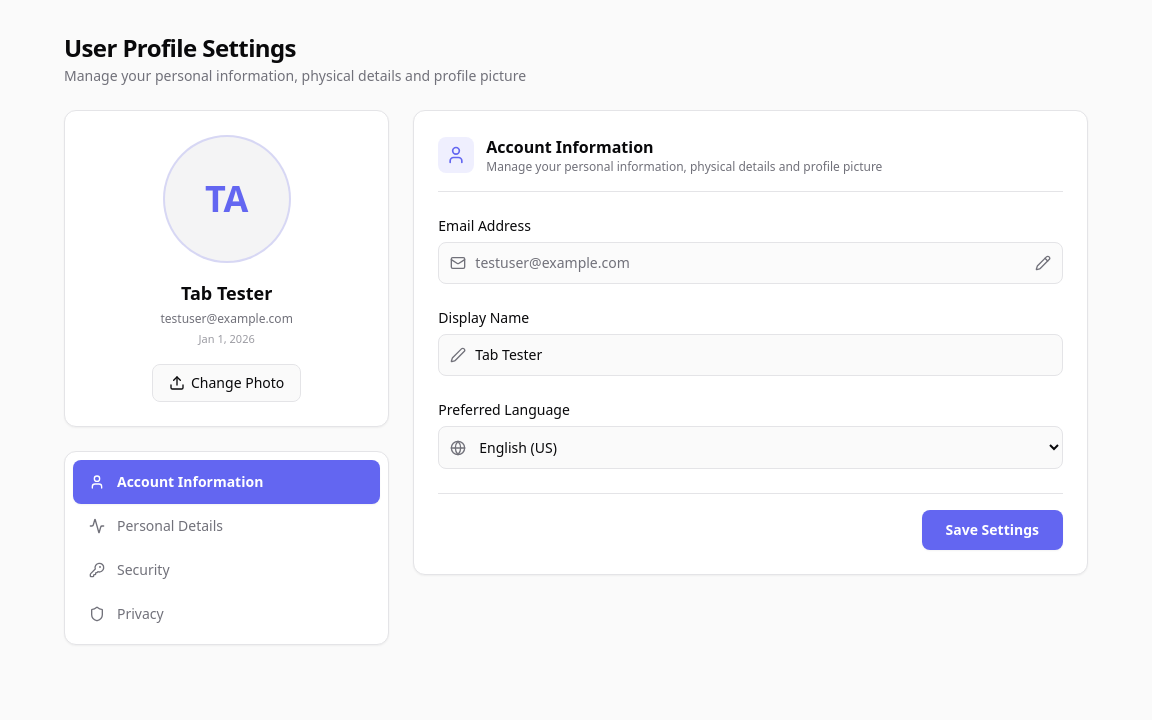
Test case: Profile Tabbed Navigation and Functionality › successfully updates password in Security tab
// Switch to Security tab
Click the tab "Security": click(143, 569) x1=73 y1=548 x2=380 y2=592
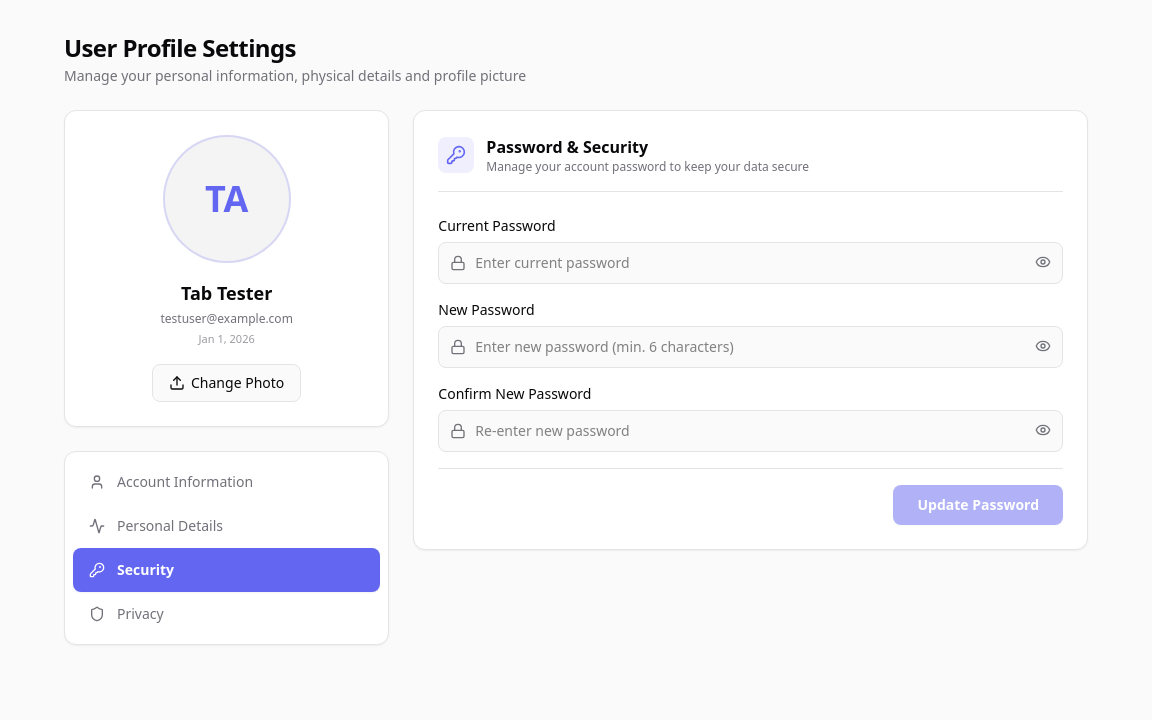
In the password field labelled "Current Password": (751, 263) x1=438 y1=242 x2=1063 y2=284, type "current123"
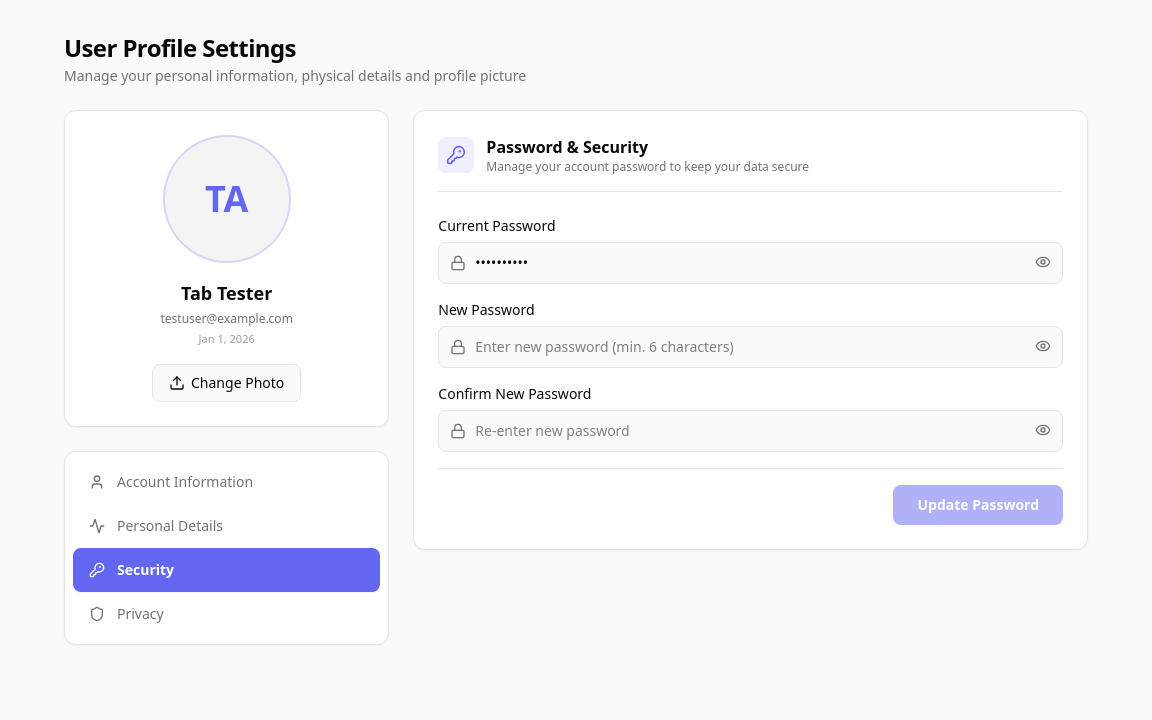
In the password field labelled "New Password": (751, 347) x1=438 y1=326 x2=1063 y2=368, type "newpassword123"
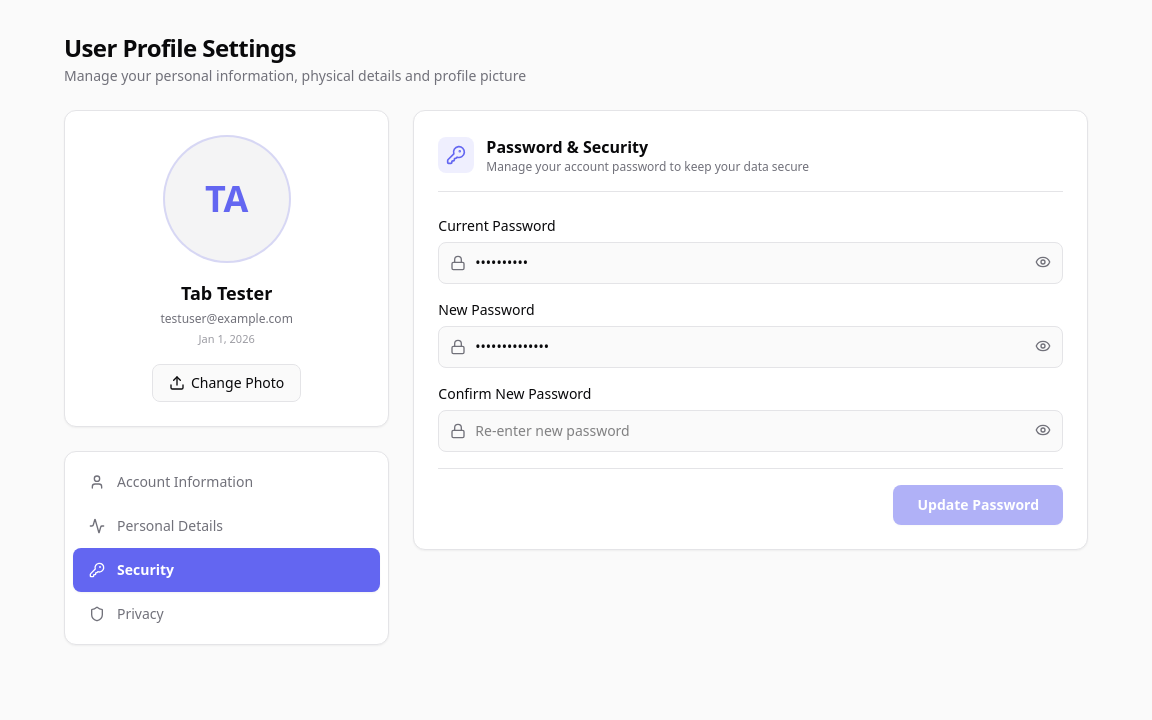
In the password field labelled "Confirm New Password": (751, 431) x1=438 y1=410 x2=1063 y2=452, type "newpassword123"
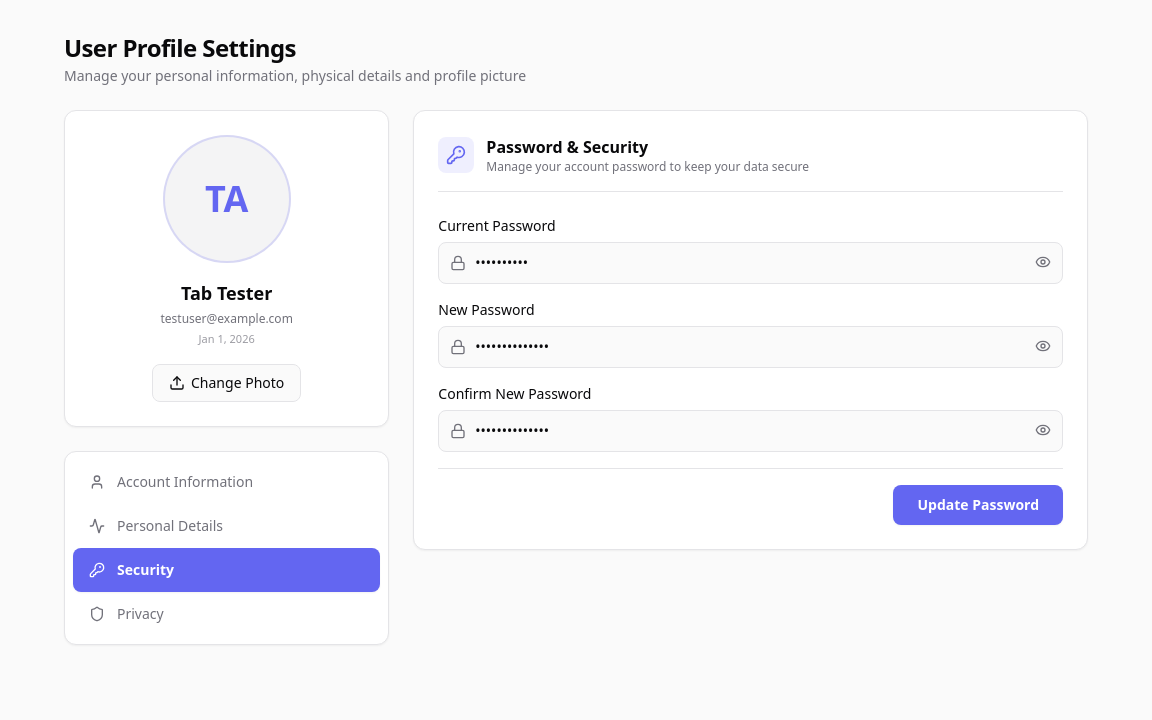
Click the button "Update Password": click(978, 505) x1=894 y1=485 x2=1063 y2=525
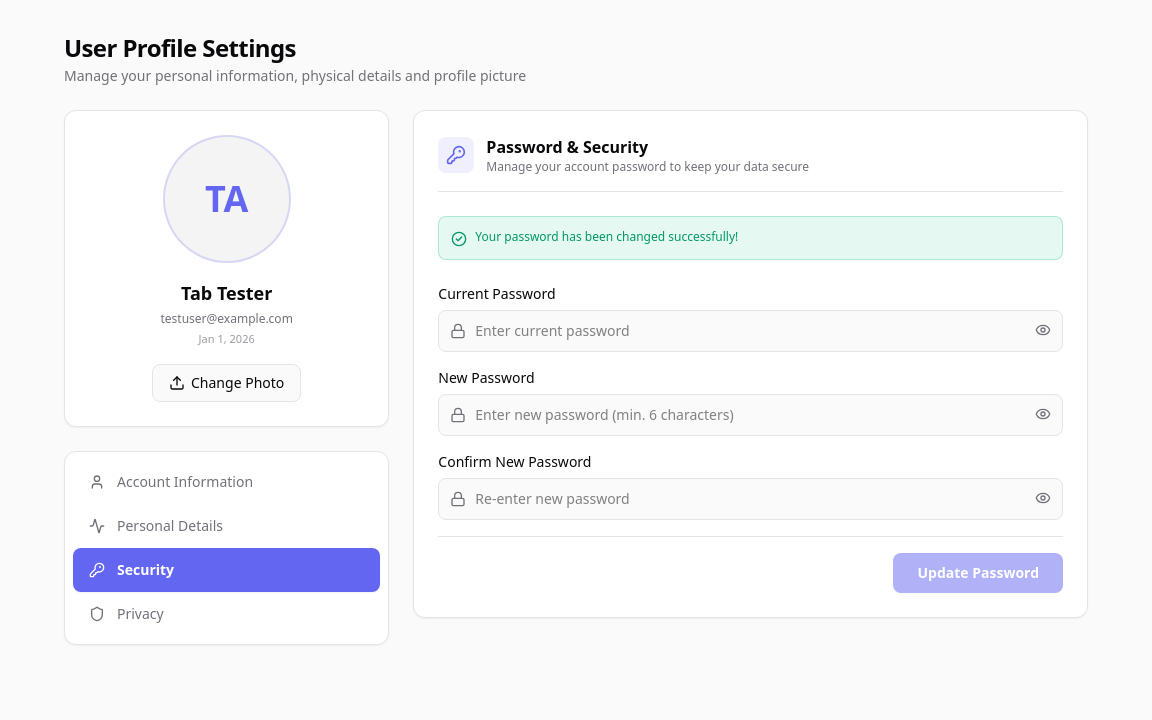
Expected: the text "Your password has been changed successfully!" is shown, x1=475 y1=229 x2=738 y2=245
